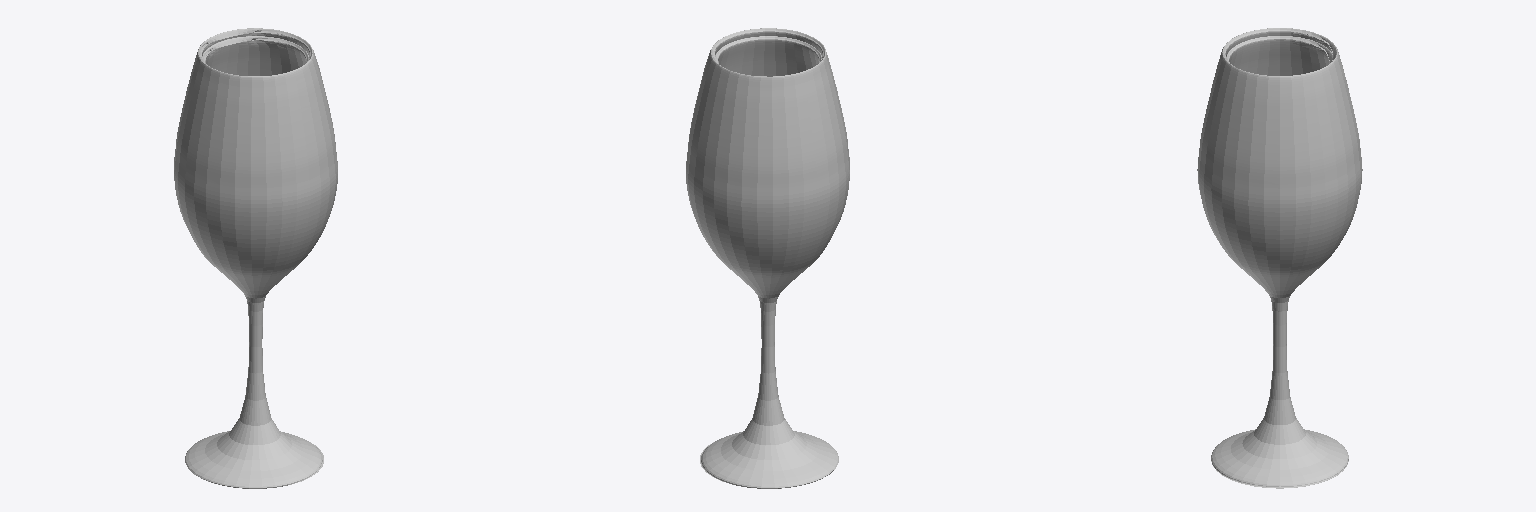
The model's file is goldglass.obj.
3 views of the same model, side by side, from view 1: azimuth 30°, elevation 25°; view 2: azimuth 150°, elevation 25°; view 3: azimuth 270°, elevation 25° (orthographic).
Visible parts, largest first — view 1: glass_Circle; view 2: glass_Circle; view 3: glass_Circle.
Part boxes in pixels (bbox=[...]): glass_Circle: bbox=[174, 28, 337, 488]; glass_Circle: bbox=[686, 28, 849, 488]; glass_Circle: bbox=[1197, 28, 1362, 488].
Size of the model in its own units: 0.4555 by 1.24 by 0.4555.